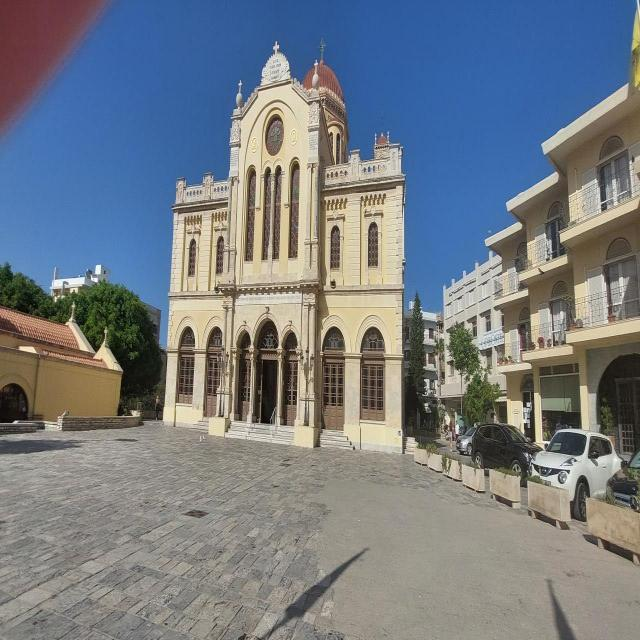Agios Minas: (163, 35, 405, 455)
